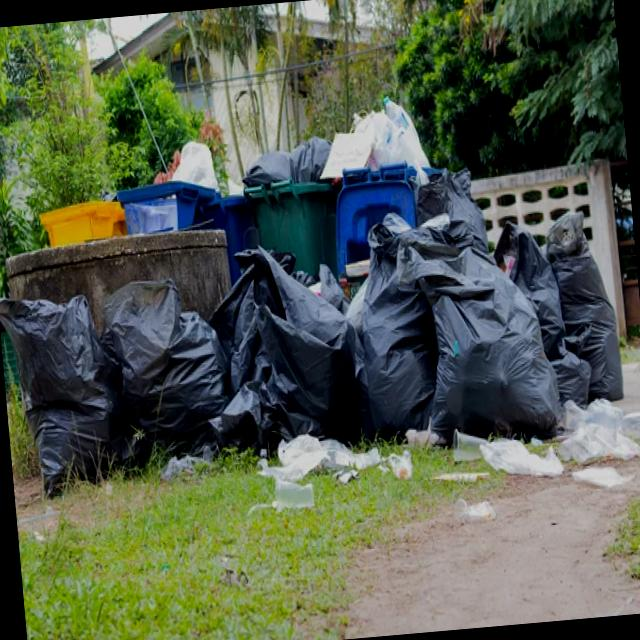garbage: (18, 128, 623, 528)
